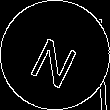N_NE: (26, 23, 84, 87)
